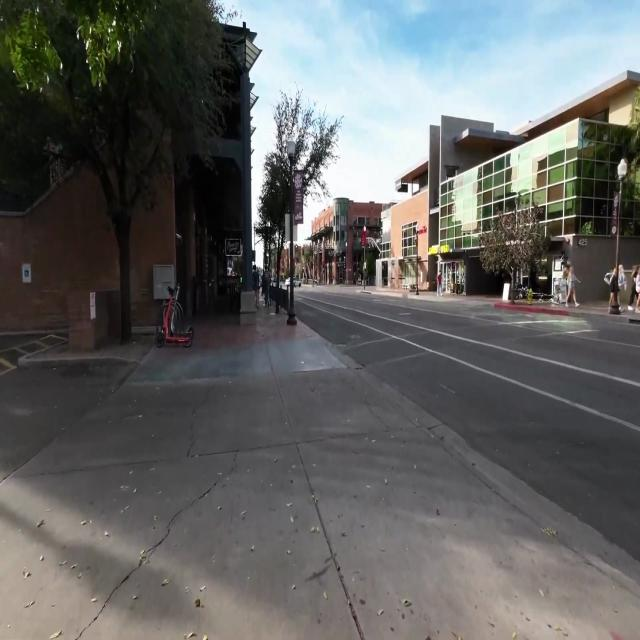road: (296, 287, 640, 559)
side walk: (0, 326, 606, 612)
